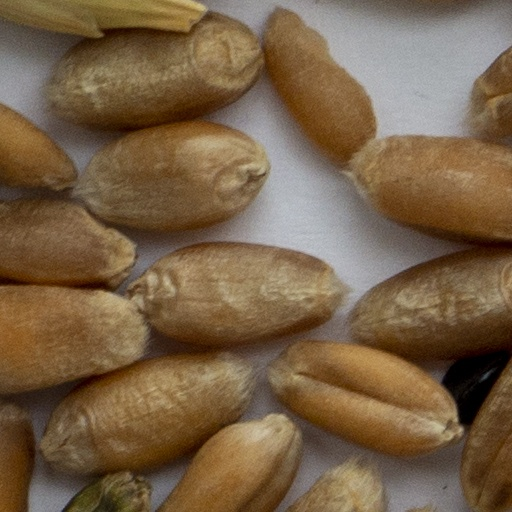Fallopia-Convolvulus-poly: (445, 352, 508, 423)
